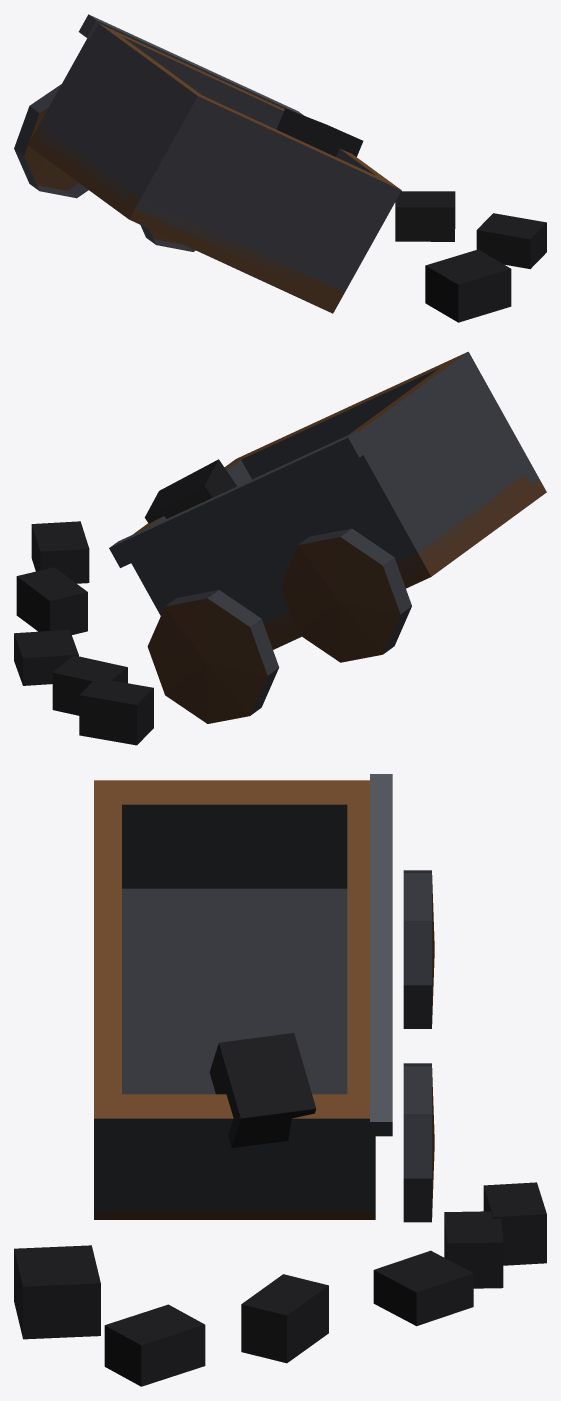
File: coal-cart.glb
3 views of the same model, one above another, from view 1: azimuth 30°, elevation 25°; view 2: azimuth 150°, elevation 25°; view 3: azimuth 270°, elevation 25° (orthographic). The views are drawn at different scales.
Visible parts, largest first — view 1: CoalCart; view 2: CoalCart; view 3: CoalCart.
Part boxes in pixels (left/top/right/bottom): CoalCart: left=14, top=14, right=546, bottom=322; CoalCart: left=14, top=351, right=546, bottom=745; CoalCart: left=14, top=774, right=546, bottom=1386.
Size of the model in its own units: 1.24 by 0.7272 by 0.9458.
Materials: 1 (1 with a texture image).
